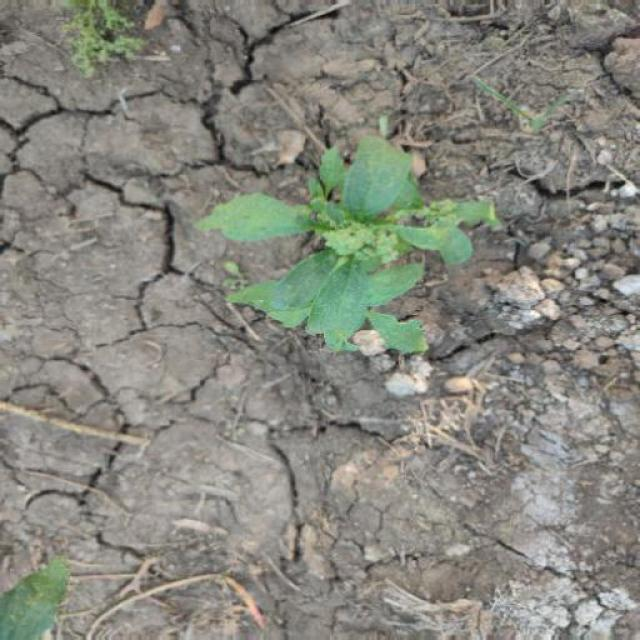weed: (196, 131, 495, 354), (45, 1, 176, 74), (2, 550, 88, 640)
